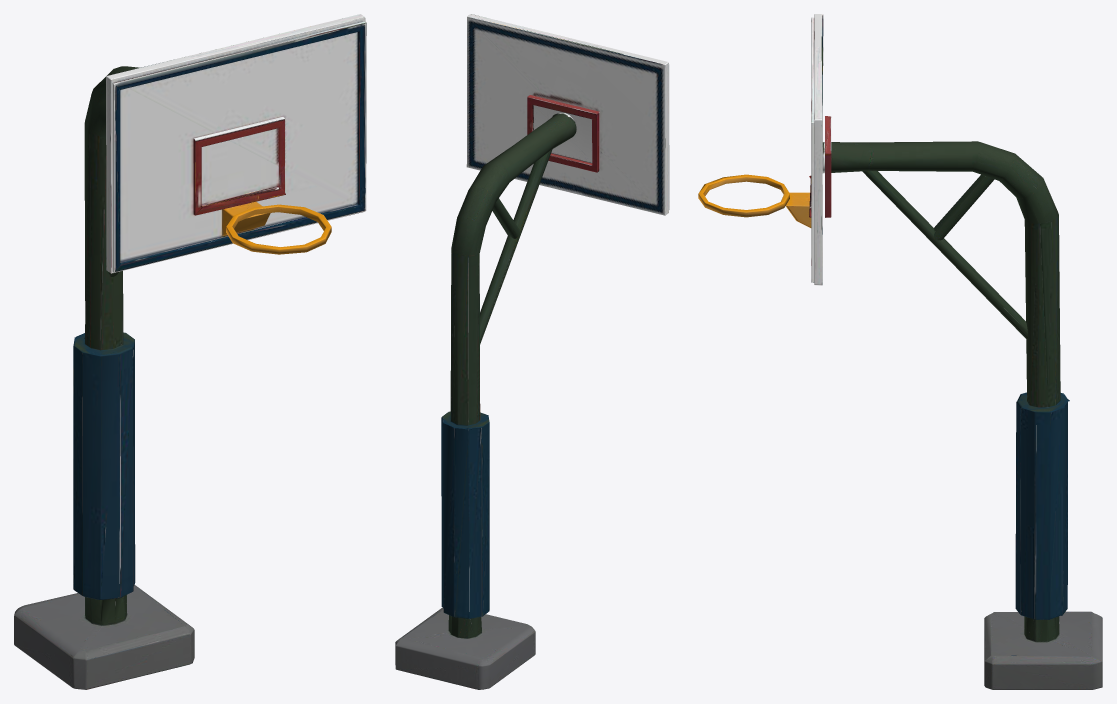
The model's file is basketball-hoop.glb.
The picture shows the model from 3 angles, left to right: view 1: azimuth 30°, elevation 25°; view 2: azimuth 150°, elevation 25°; view 3: azimuth 270°, elevation 25°; orthographic projection. The views are drawn at different scales.
Bounding box in the file's own units: 0.3628 × 0.9512 × 0.5825.
Materials: 1 (1 with a texture image).
